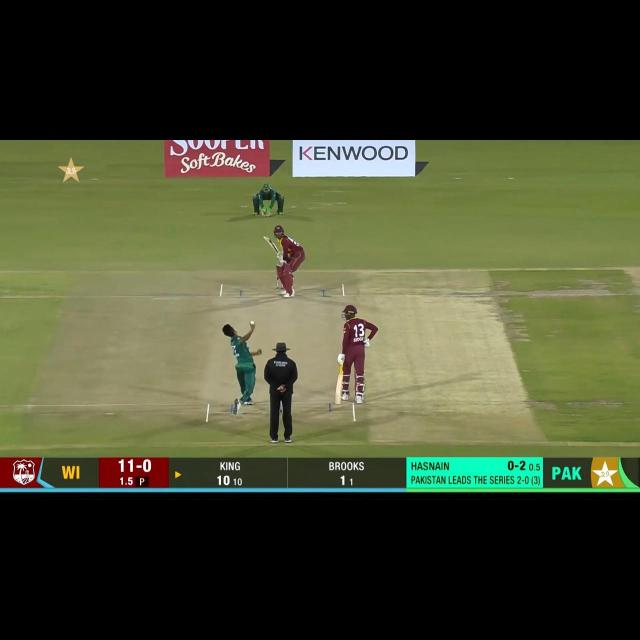bat: (333, 373, 345, 405), (262, 233, 278, 252)
toe: (333, 398, 342, 406), (261, 234, 270, 240)
